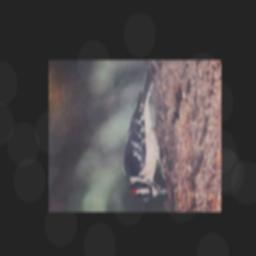Woodpecker: (120, 68, 170, 203)
